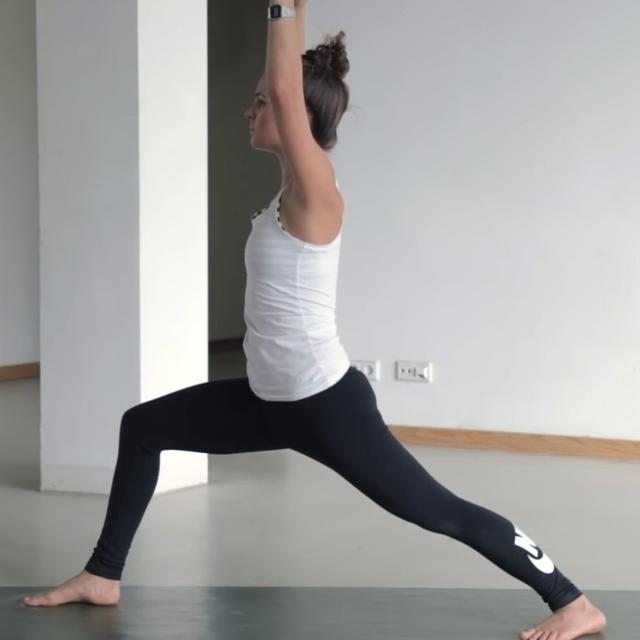Warrior_I: (8, 1, 612, 637)
